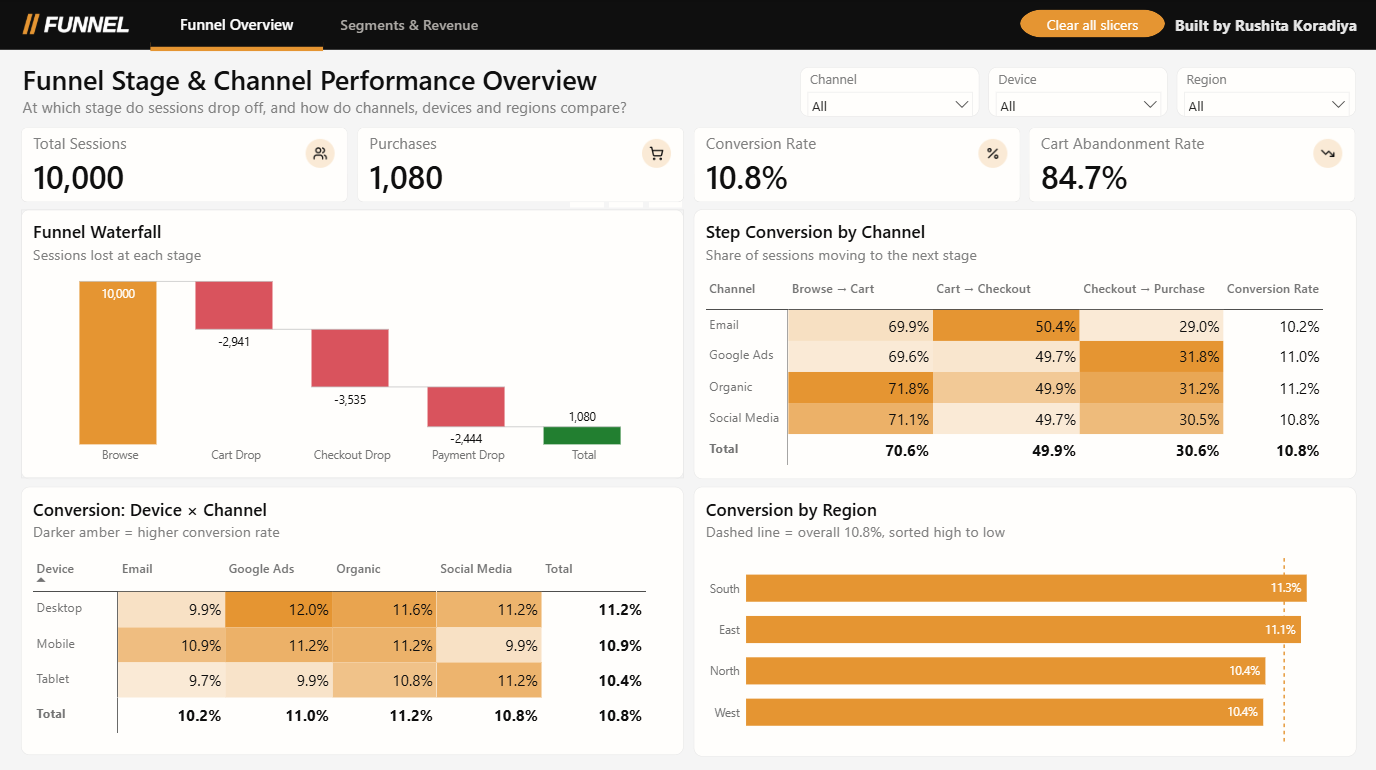

Layout of this report page (visuals, bound fields, positions):
{"tool":"powerbi","page":{"name":"Funnel Overview","canvas":[1920,1080],"ordinal":0},"visuals":[{"type":"shape","box":[212,60,240,12],"z":0,"group":"g6"},{"type":"cardVisual","fields":{"Data":["_Measures.Total Sessions"]},"box":[32,180,454,104],"z":0,"group":"g2"},{"type":"shape","box":[212,55,240,12],"z":1000,"group":"g6"},{"type":"cardVisual","fields":{"Data":["_Measures.Valid Purchases"]},"box":[499,180,454,104],"z":1000,"group":"g3"},{"type":"clusteredBarChart","title":"Conversion by Region","fields":{"Category":["V_Session.Region"],"Y":["_Measures.Conversion Rate"]},"box":[966,680,921,375],"z":1000},{"type":"cardVisual","fields":{"Data":["_Measures.Conversion Rate"]},"box":[966,180,454,104],"z":2000,"group":"g4"},{"type":"pivotTable","title":"Conversion: Device × Channel","fields":{"Columns":["V_Session.Channel"],"Rows":["V_Session.Device"],"Values":["_Measures.Conversion Rate"]},"box":[32,680,921,373],"z":2000},{"type":"cardVisual","fields":{"Data":["_Measures.Cart Abandonment Rate"]},"box":[1433,180,454,104],"z":3000,"group":"g5"},{"type":"pivotTable","title":"Step Conversion by Channel","fields":{"Rows":["V_Session.Channel"],"Values":["_Measures.Browse to Cart Rate","_Measures.Cart to Checkout Rate","_Measures.Checkout to Purchase Rate","_Measures.Conversion Rate"]},"box":[966,293,921,375],"z":3000},{"type":"shape","box":[0,0,1920,72],"z":4000,"group":"g1"},{"type":"image","box":[428,195,40,40],"z":4000,"group":"g2"},{"type":"waterfallChart","title":"Funnel Waterfall","fields":{"Category":["Waterfall Steps.Step"],"Y":["_Measures.Waterfall Value"]},"box":[32,293,921,375],"z":4000},{"type":"textbox","box":[34,88,1051.1,80],"z":5000,"group":"g1"},{"type":"slicer","fields":{"Values":["V_Session.Region"]},"box":[1638,95,249,69],"z":5000},{"type":"image","box":[1362,195,40,40],"z":5000,"group":"g4"},{"type":"image","box":[32,16,160,40],"z":6000,"group":"g1"},{"type":"slicer","fields":{"Values":["V_Session.Device"]},"box":[1376,95,249,69],"z":6000},{"type":"image","box":[895,195,40,40],"z":6000,"group":"g3"},{"type":"slicer","fields":{"Values":["V_Session.Channel"]},"box":[1114,95,249,69],"z":7000},{"type":"image","box":[1829,195,40,40],"z":7000,"group":"g5"},{"type":"group","id":"g1","title":"Group 3","box":[0,0,1920,168],"z":8000},{"type":"group","id":"g2","title":"Group 4","box":[32,180,454,104],"z":9000},{"type":"group","id":"g3","title":"Group 5","box":[499,180,454,104],"z":10000},{"type":"group","id":"g4","title":"Group 6","box":[966,180,454,104],"z":11000},{"type":"group","id":"g5","title":"Group 7","box":[1433,180,454,104],"z":12000},{"type":"actionButton","title":"Clear Filters","box":[1420.5,16,201.4,39],"z":13000},{"type":"group","id":"g6","title":"Group 1","box":[212,55,240,17],"z":13000,"group":"g7"},{"type":"pageNavigator","box":[212,0,480,72],"z":13500},{"type":"actionButton","box":[1622.3,16,280,40],"z":13501},{"type":"group","id":"g7","title":"Group 2","box":[212,55,240,17],"z":21001,"group":"g1"}]}

Visuals, with their boxes on the page's 1920x1080 design canvas (x1, y1, x2, y2). These are canvas units, not pixel positions in the 1376x770 screenshot, which may show the page scaled, cropped or inside an application window:
shape: 212:60:452:72
cardVisual - _Measures.Total Sessions: 32:180:486:284
shape: 212:55:452:67
cardVisual - _Measures.Valid Purchases: 499:180:953:284
"Conversion by Region" clusteredBarChart: 966:680:1887:1055
cardVisual - _Measures.Conversion Rate: 966:180:1420:284
"Conversion: Device × Channel" pivotTable: 32:680:953:1053
cardVisual - _Measures.Cart Abandonment Rate: 1433:180:1887:284
"Step Conversion by Channel" pivotTable: 966:293:1887:668
shape: 0:0:1920:72
image: 428:195:468:235
"Funnel Waterfall" waterfallChart: 32:293:953:668
textbox: 34:88:1085:168
slicer - V_Session.Region: 1638:95:1887:164
image: 1362:195:1402:235
image: 32:16:192:56
slicer - V_Session.Device: 1376:95:1625:164
image: 895:195:935:235
slicer - V_Session.Channel: 1114:95:1363:164
image: 1829:195:1869:235
"Group 3" group: 0:0:1920:168
"Group 4" group: 32:180:486:284
"Group 5" group: 499:180:953:284
"Group 6" group: 966:180:1420:284
"Group 7" group: 1433:180:1887:284
"Clear Filters" actionButton: 1420:16:1622:55
"Group 1" group: 212:55:452:72
pageNavigator: 212:0:692:72
actionButton: 1622:16:1902:56
"Group 2" group: 212:55:452:72
